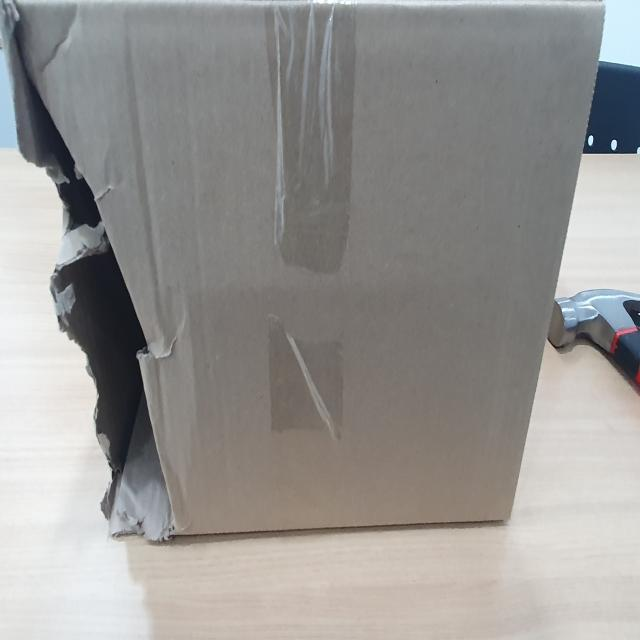hole: (11, 0, 179, 549)
